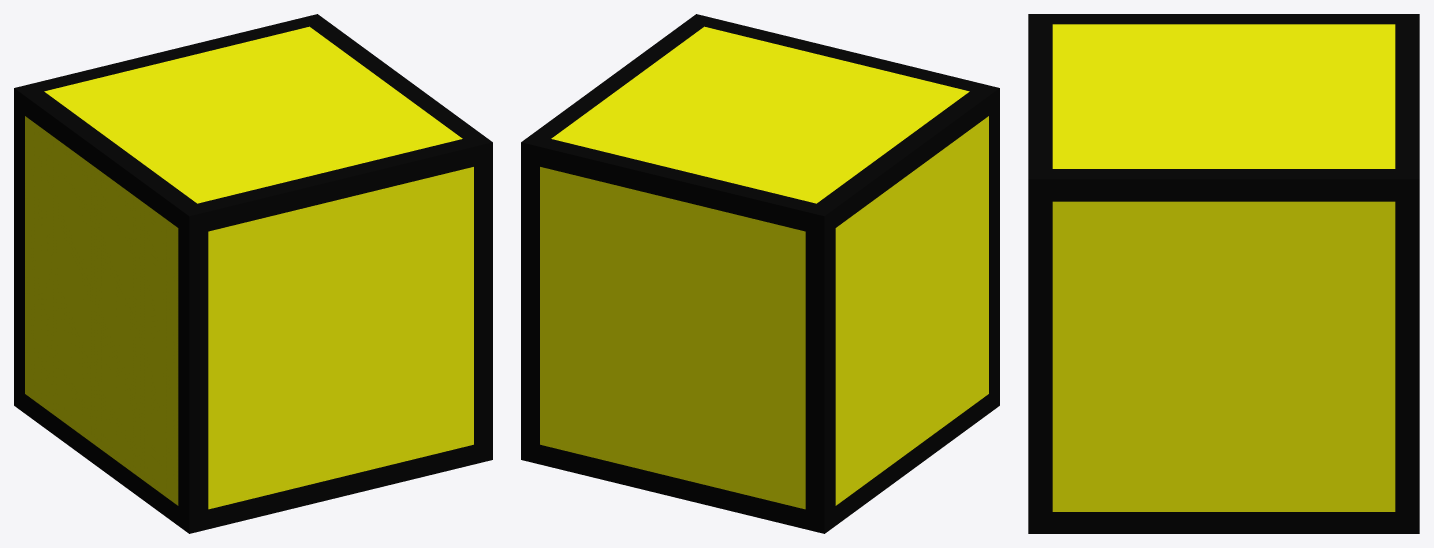
The model's file is Cub_Yellow.glb.
3 views of the same model, side by side, from view 1: azimuth 30°, elevation 25°; view 2: azimuth 150°, elevation 25°; view 3: azimuth 270°, elevation 25° (orthographic). The views are drawn at different scales.
Parts seen in each view (by area): view 1: Cube; view 2: Cube; view 3: Cube.
Boxes of the visible parts, left/top/right/bottom form: Cube: left=14, top=14, right=492, bottom=533; Cube: left=521, top=14, right=999, bottom=533; Cube: left=1028, top=14, right=1419, bottom=533.
Bounding box in the file's own units: 2 × 2 × 2.
